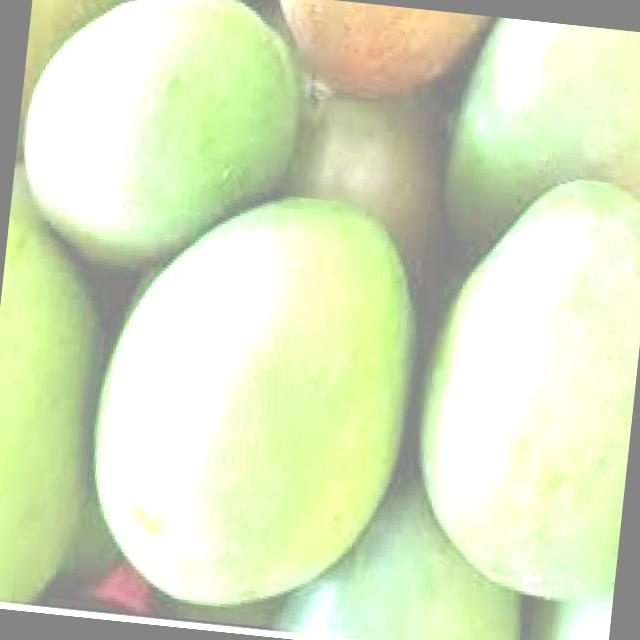Mango: (69, 167, 425, 622), (409, 156, 640, 606), (12, 0, 316, 277), (0, 168, 130, 614), (436, 13, 640, 274), (264, 473, 542, 640), (267, 0, 487, 101)
